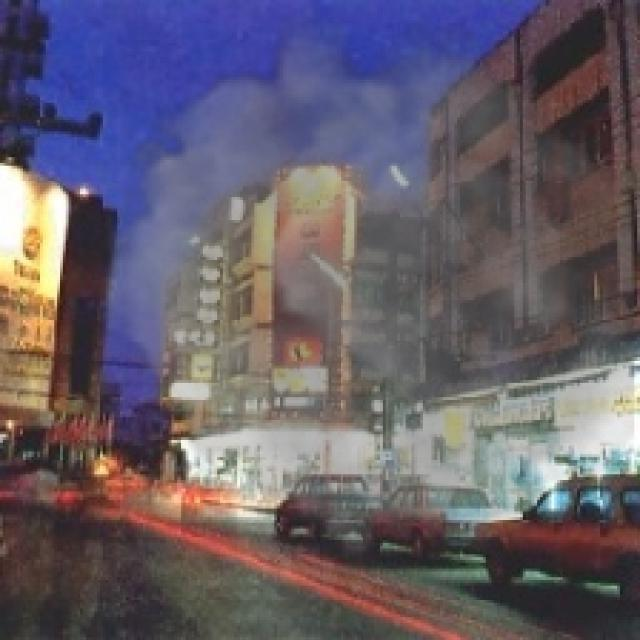Smoke: (106, 9, 634, 578)
